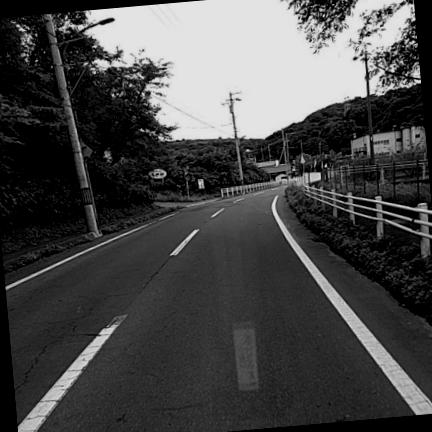Road: (6, 188, 431, 431)
